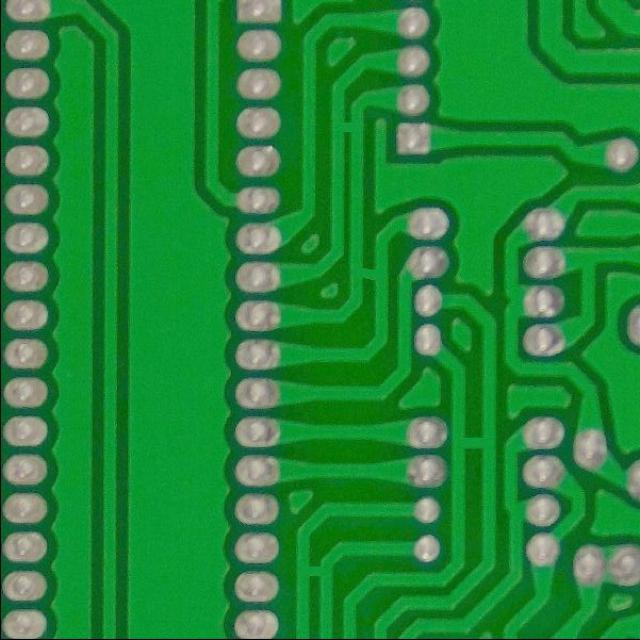Short_Circuit: (443, 421, 504, 464), (343, 253, 395, 292), (322, 111, 372, 146), (288, 555, 340, 588)
